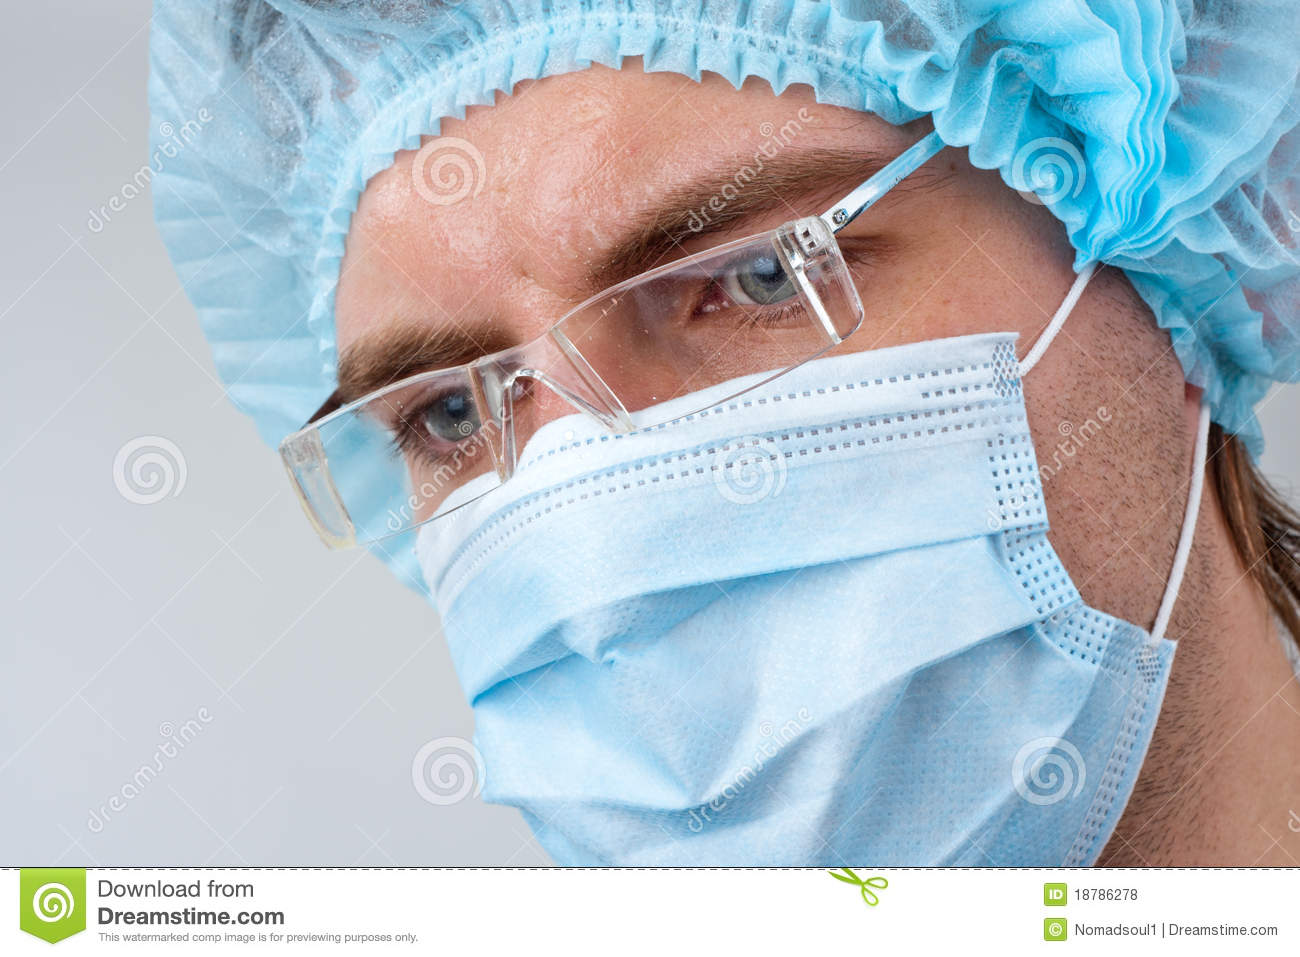mask: (406, 411, 1154, 855)
